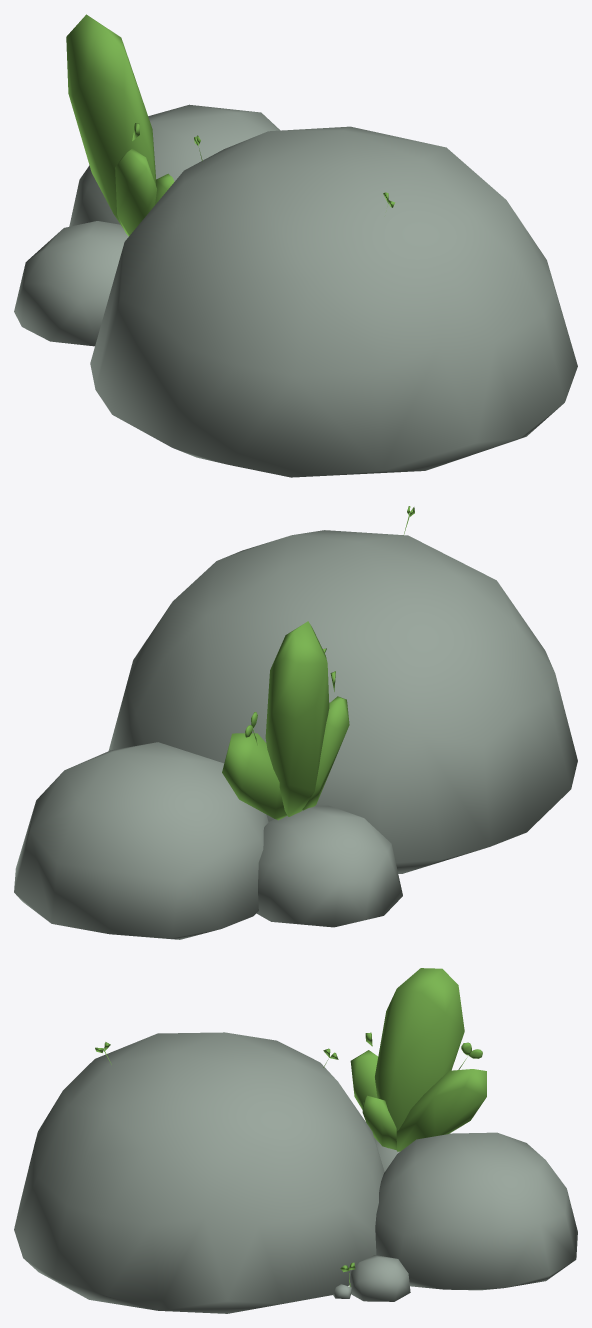
The model's file is Rockpile_with_bushes.fbx.
The picture shows the model from 3 angles, top to bottom: view 1: azimuth 30°, elevation 25°; view 2: azimuth 150°, elevation 25°; view 3: azimuth 270°, elevation 25°; orthographic projection. The views are drawn at different scales.
Visible parts, largest first — view 1: Rock pile with bushes; view 2: Rock pile with bushes; view 3: Rock pile with bushes.
Boxes of the visible parts, x1,y1,x2,y2 form: Rock pile with bushes: [14, 14, 577, 477]; Rock pile with bushes: [14, 506, 577, 939]; Rock pile with bushes: [14, 968, 577, 1313].
Size of the model in its own units: 180 by 123 by 266.
